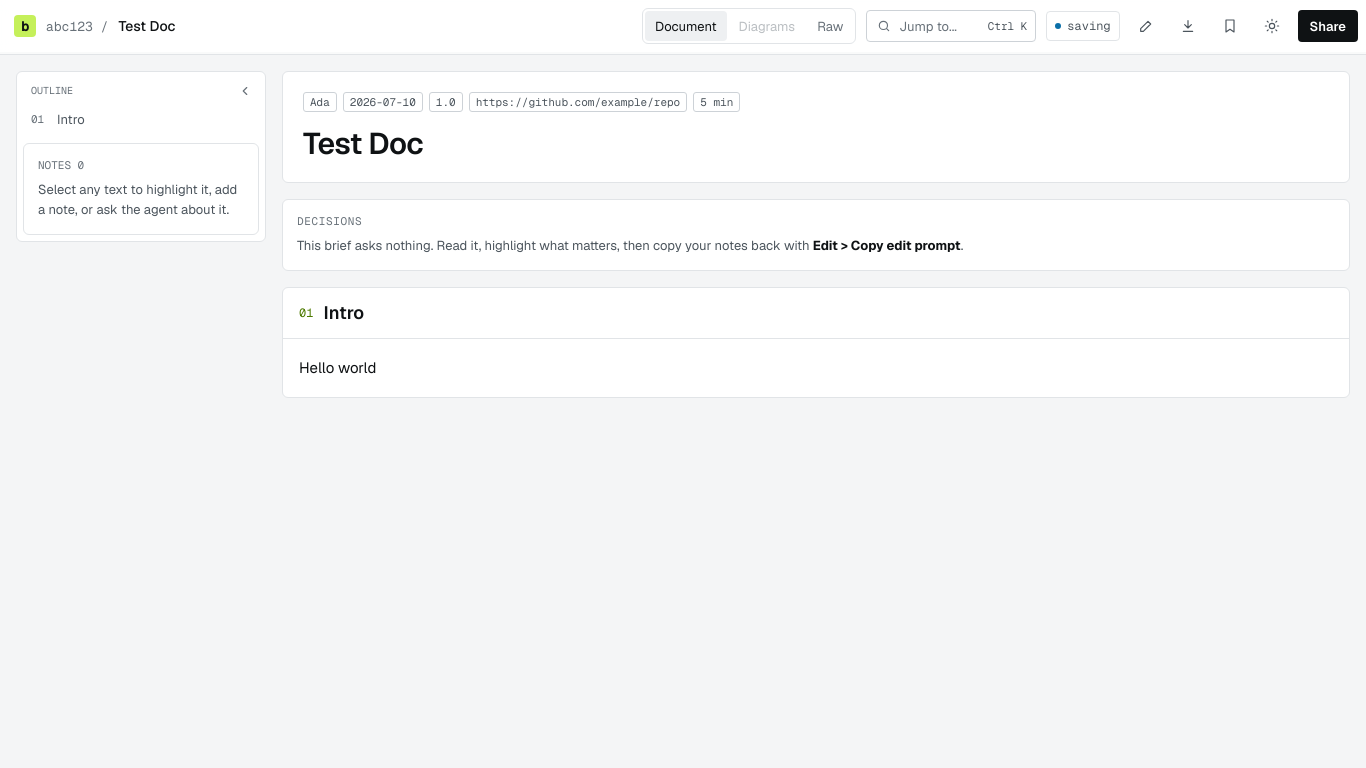
Test: SessionPage / SessionView › a highlight added after an in-view encrypt save does not resync plaintext to the state endpoint (bug-250)
Check: the heading "Test Doc" is shown, box [303,124,423,163]
Click the button named "Archive": [1230, 26] box [1214,10,1246,42]
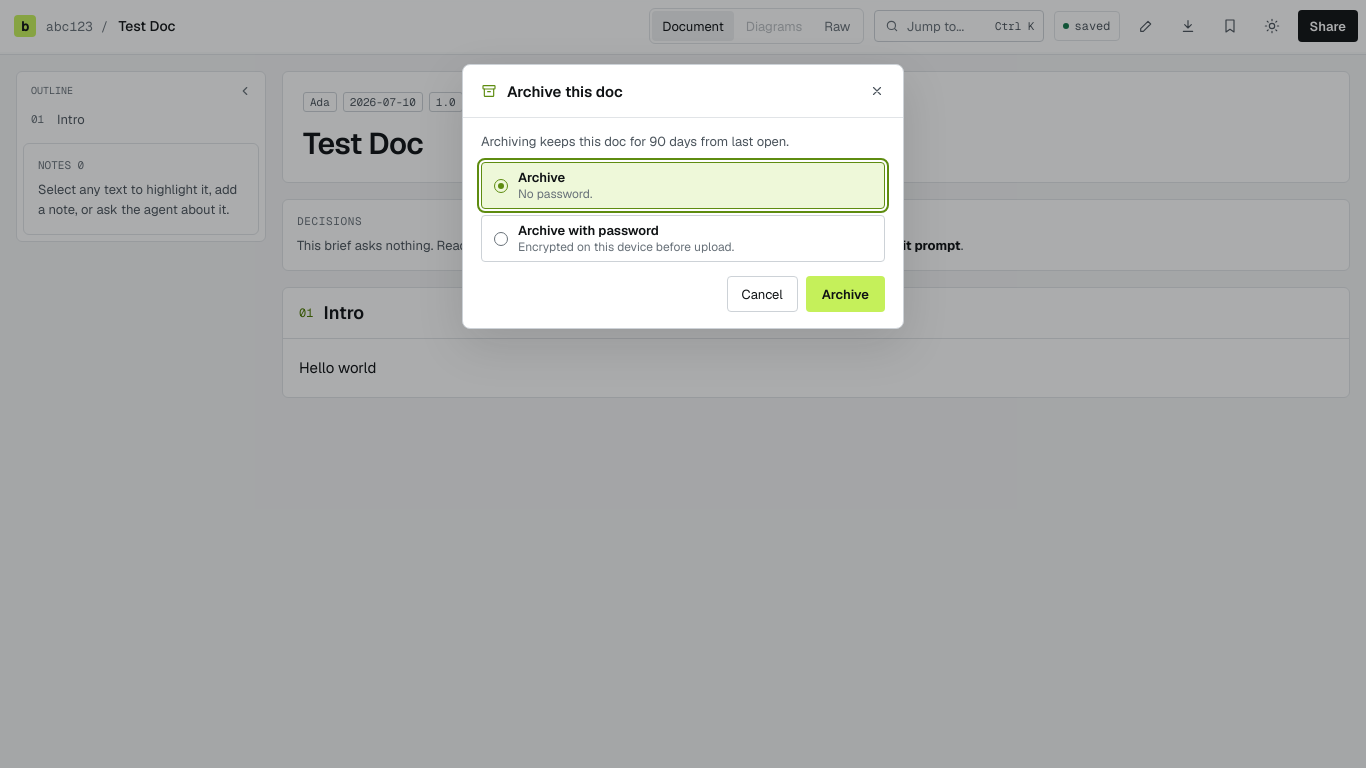
Click the radio button labelled "Archive with password": [683, 238] box [481,215,885,262]
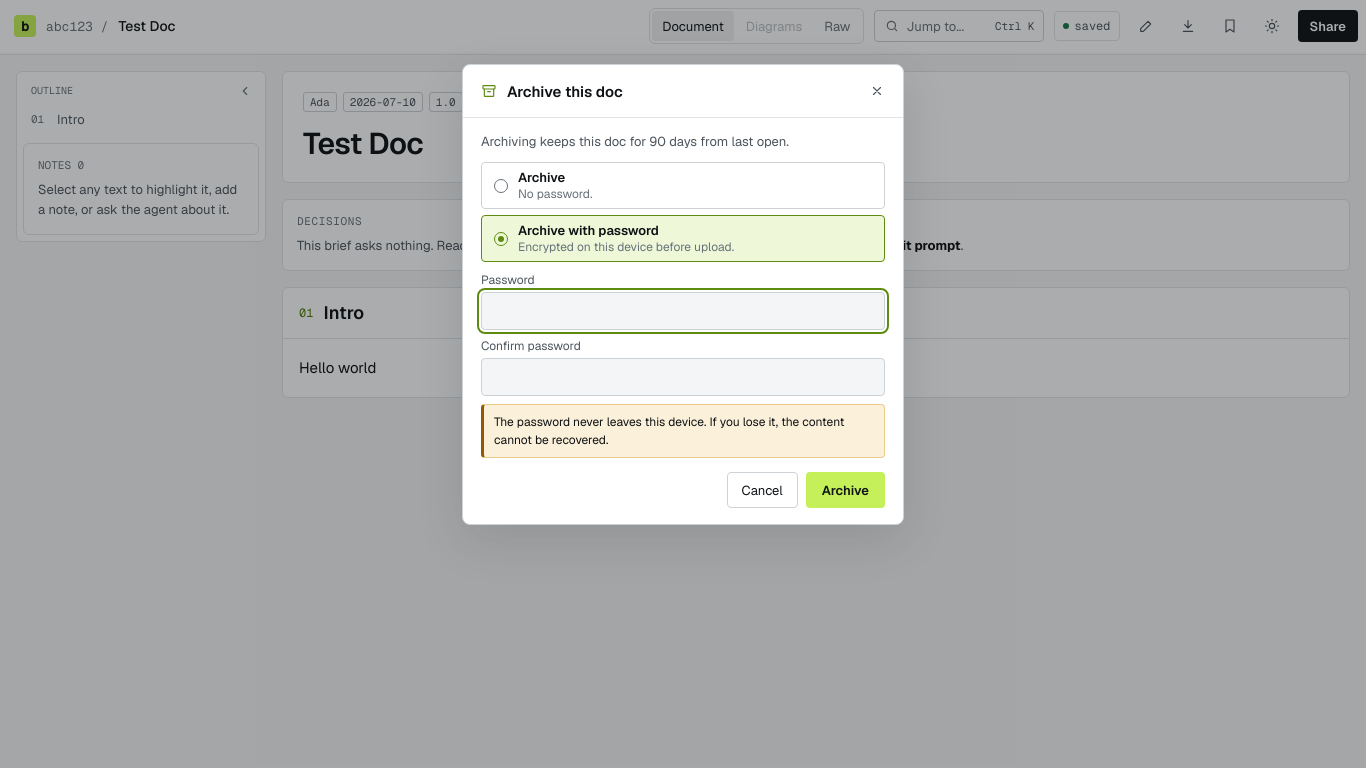
In the password field labelled "Password": [683, 311] box [481,292,885,330], type "password123"
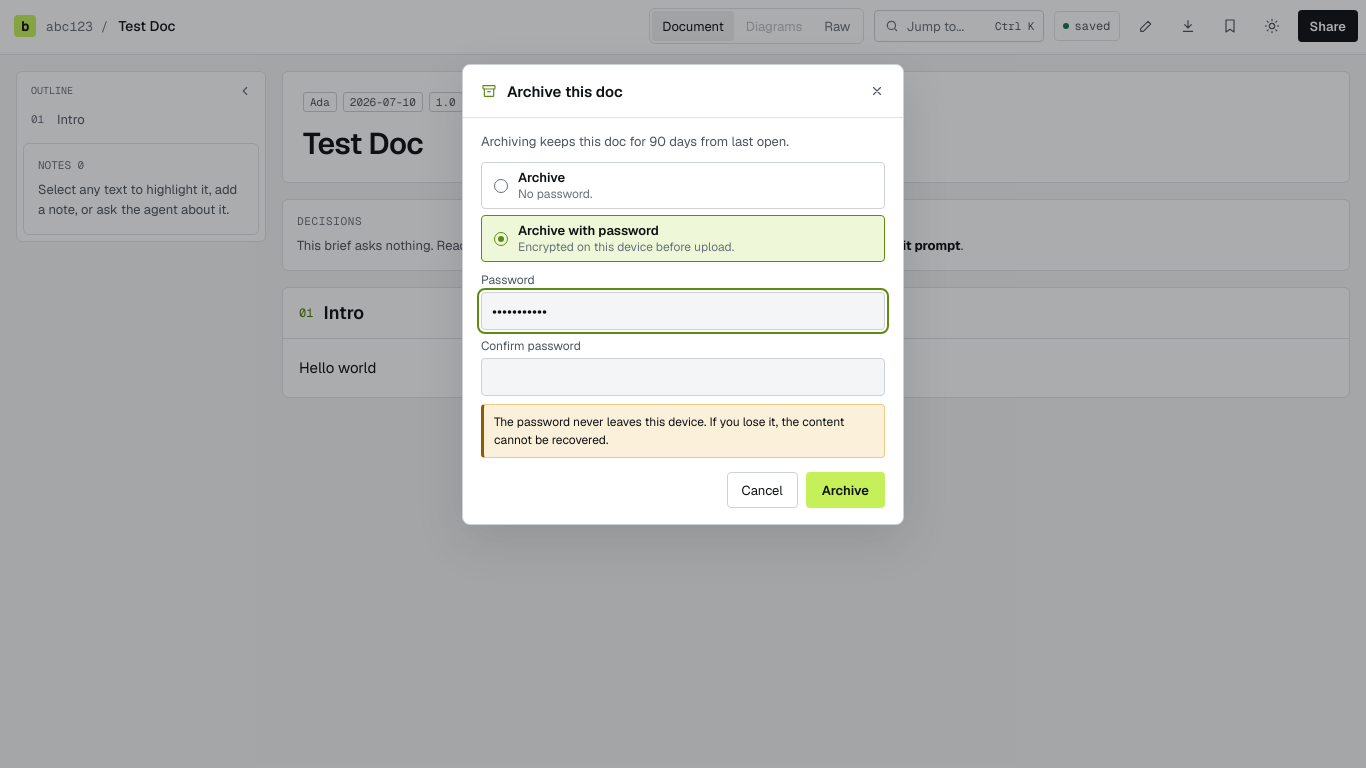
In the password field labelled "Confirm password": [683, 377] box [481,358,885,396], type "password123"
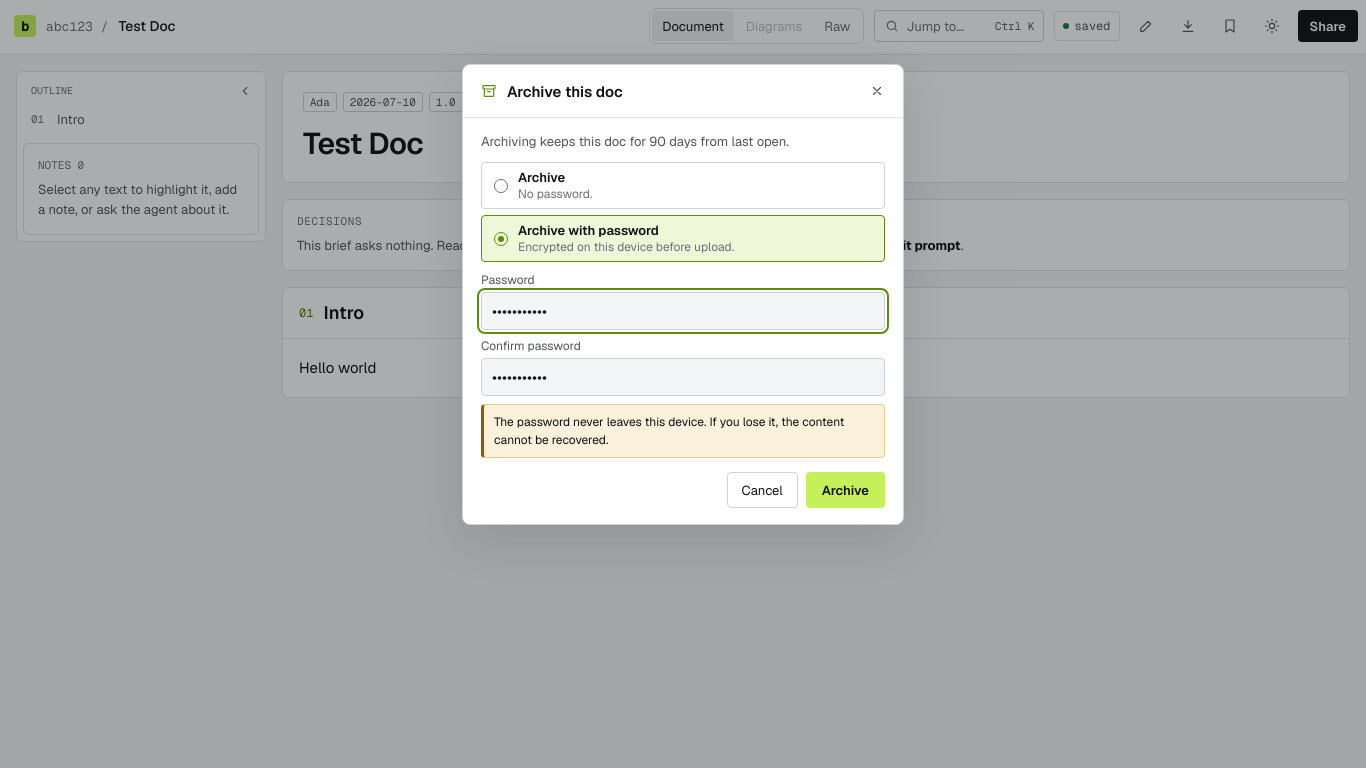
Click the button "Archive": [845, 490] box [806,472,885,508]
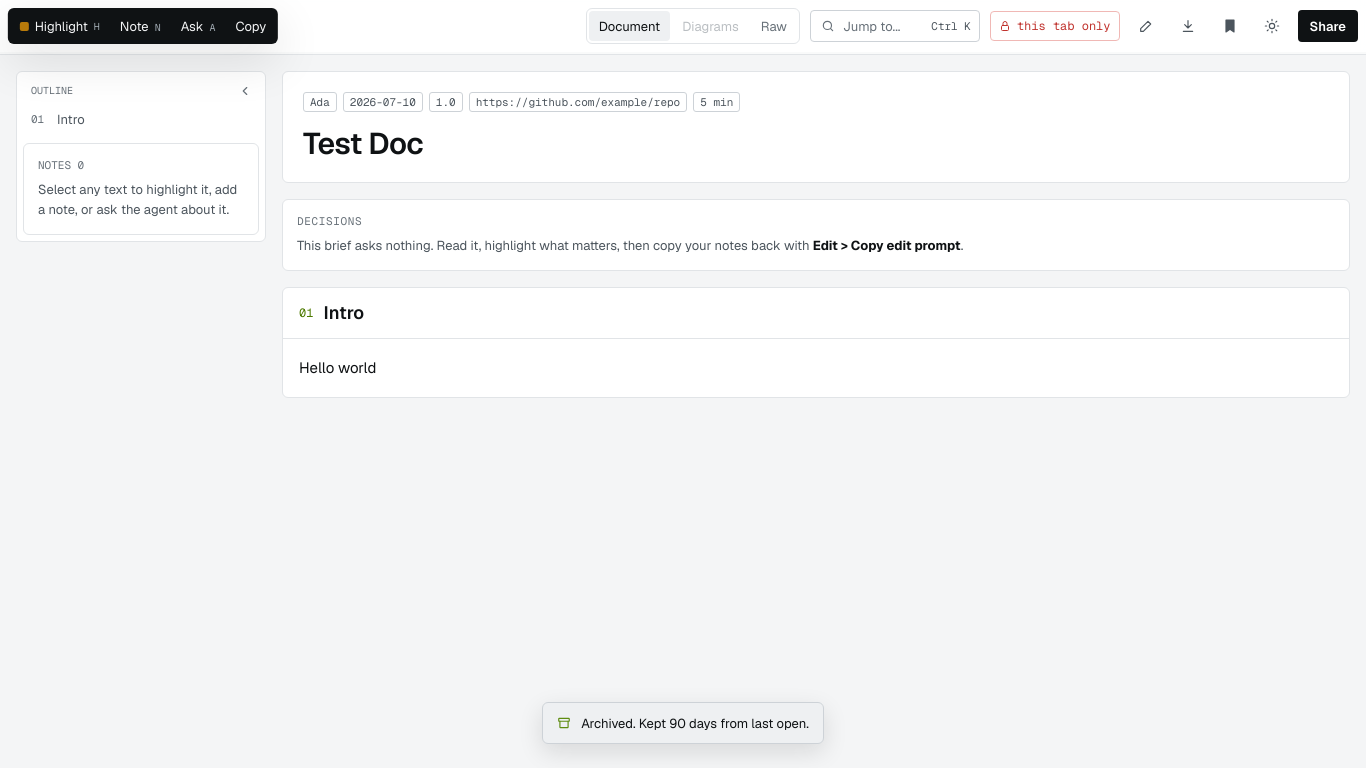
Check: the text "Archive this doc" is gone
Click the button "Highlight H": [60, 26] box [11,11,109,41]
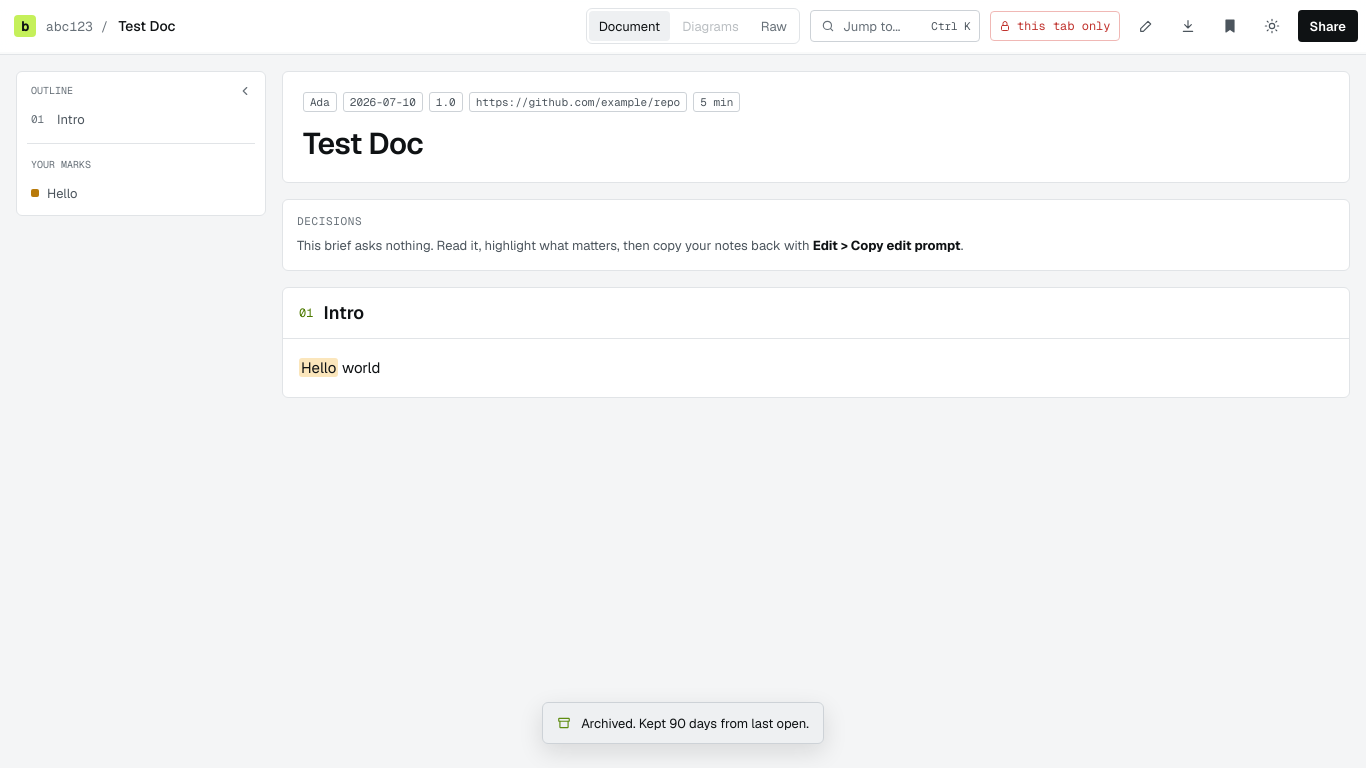
Check: the text "Hello" next to "world" is shown, box [301,358,336,377]
